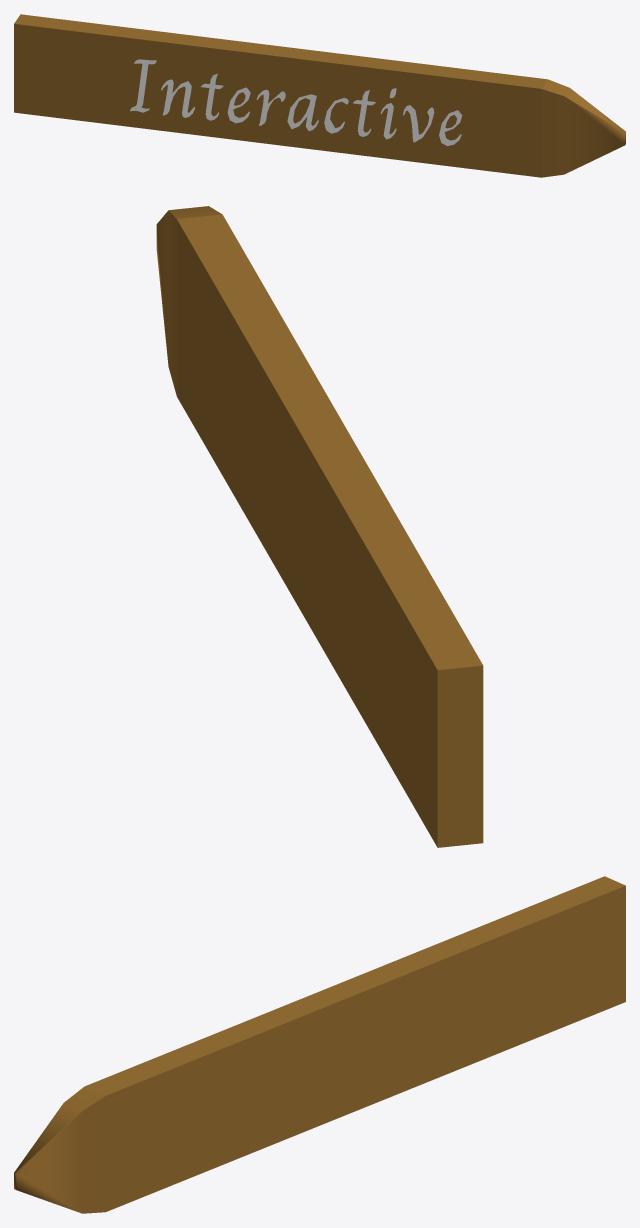
Rendered from InteractiveSign.glb.
3 renders of one model, top to bottom at view 1: azimuth 30°, elevation 25°; view 2: azimuth 150°, elevation 25°; view 3: azimuth 270°, elevation 25°, orthographic. The views are drawn at different scales.
Visible parts, largest first — view 1: Text.002; view 2: Text.002; view 3: Text.002.
Part boxes in pixels (x1=…): Text.002: x1=14, y1=14, x2=625, y2=177; Text.002: x1=156, y1=206, x2=483, y2=847; Text.002: x1=14, y1=876, x2=625, y2=1213.
Size of the model in its own units: 2.31 by 0.5052 by 2.41.
